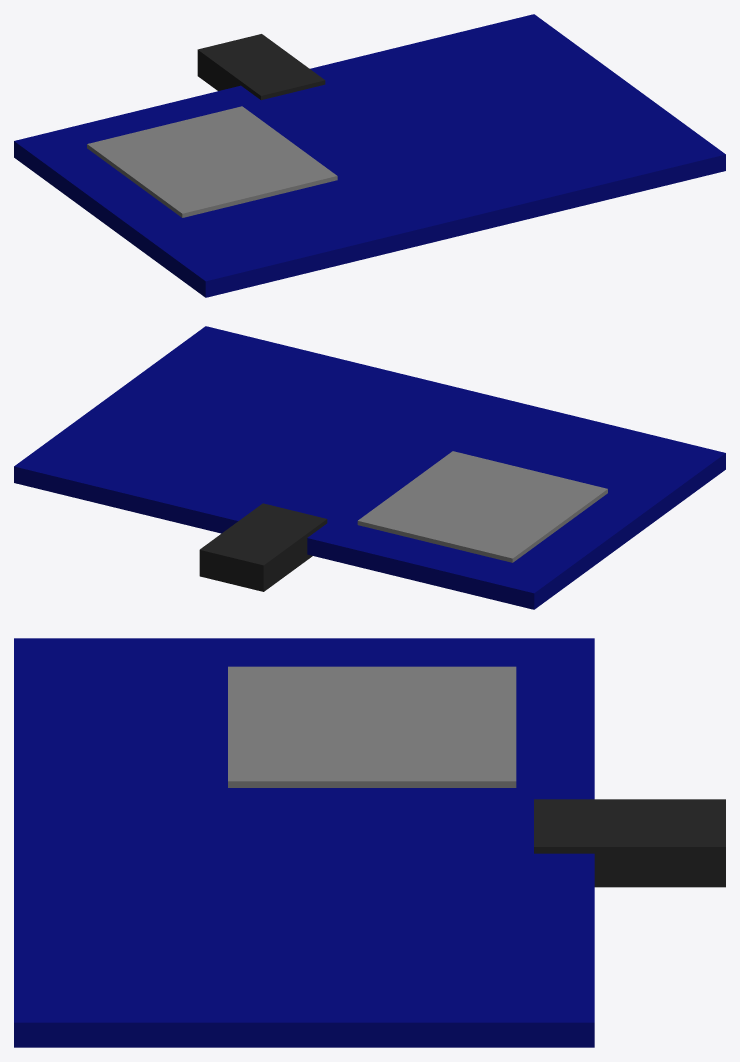
File: IDcard_01.fbx
The picture shows the model from 3 angles, top to bottom: view 1: azimuth 30°, elevation 25°; view 2: azimuth 150°, elevation 25°; view 3: azimuth 270°, elevation 25°; orthographic projection. The views are drawn at different scales.
Visible parts, largest first — view 1: IDCard_01; view 2: IDCard_01; view 3: IDCard_01.
Part boxes in pixels (box(x1,y1,x2,y2)): IDCard_01: box(14, 14, 725, 297); IDCard_01: box(14, 326, 725, 609); IDCard_01: box(14, 638, 725, 1047).
Size of the model in its own units: 0.195 by 0.00953 by 0.1527.
